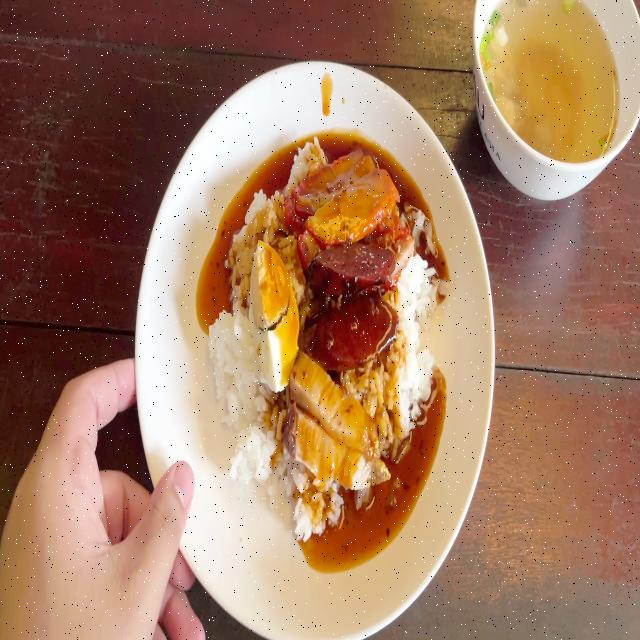boiled_egg: (254, 243, 293, 392)
chainese_sausage: (300, 241, 396, 359)
crispy_pork: (288, 357, 378, 493)
red_pork: (287, 149, 387, 239)
red_pork_and_crispy_pork: (207, 148, 431, 519)
rice: (213, 192, 259, 482), (386, 263, 438, 422)
